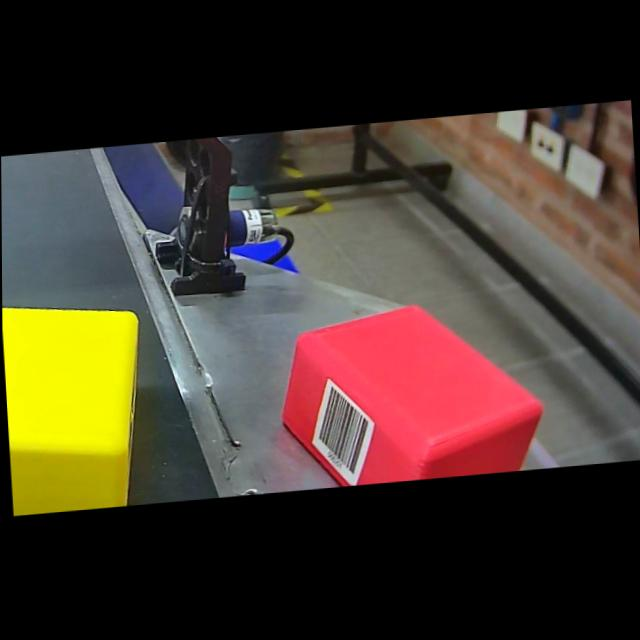redBox: (270, 291, 553, 494)
yellowBox: (2, 281, 158, 515)
